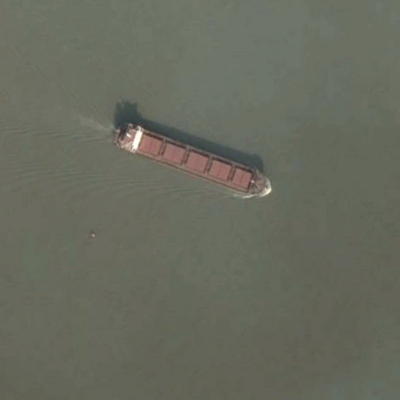boat: (109, 119, 273, 199)
